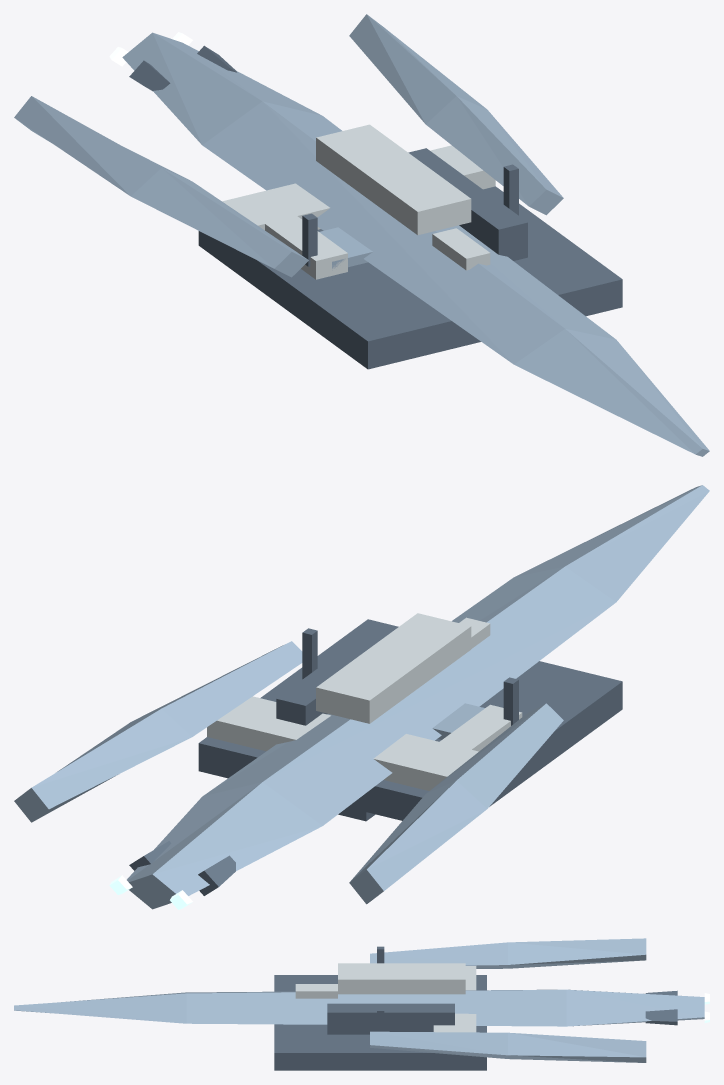
3 renders of one model, top to bottom at view 1: azimuth 30°, elevation 25°; view 2: azimuth 150°, elevation 25°; view 3: azimuth 270°, elevation 25°, orthographic. The views are drawn at different scales.
Bounding box in the file's own units: 5.3 × 1.44 × 13.75.
